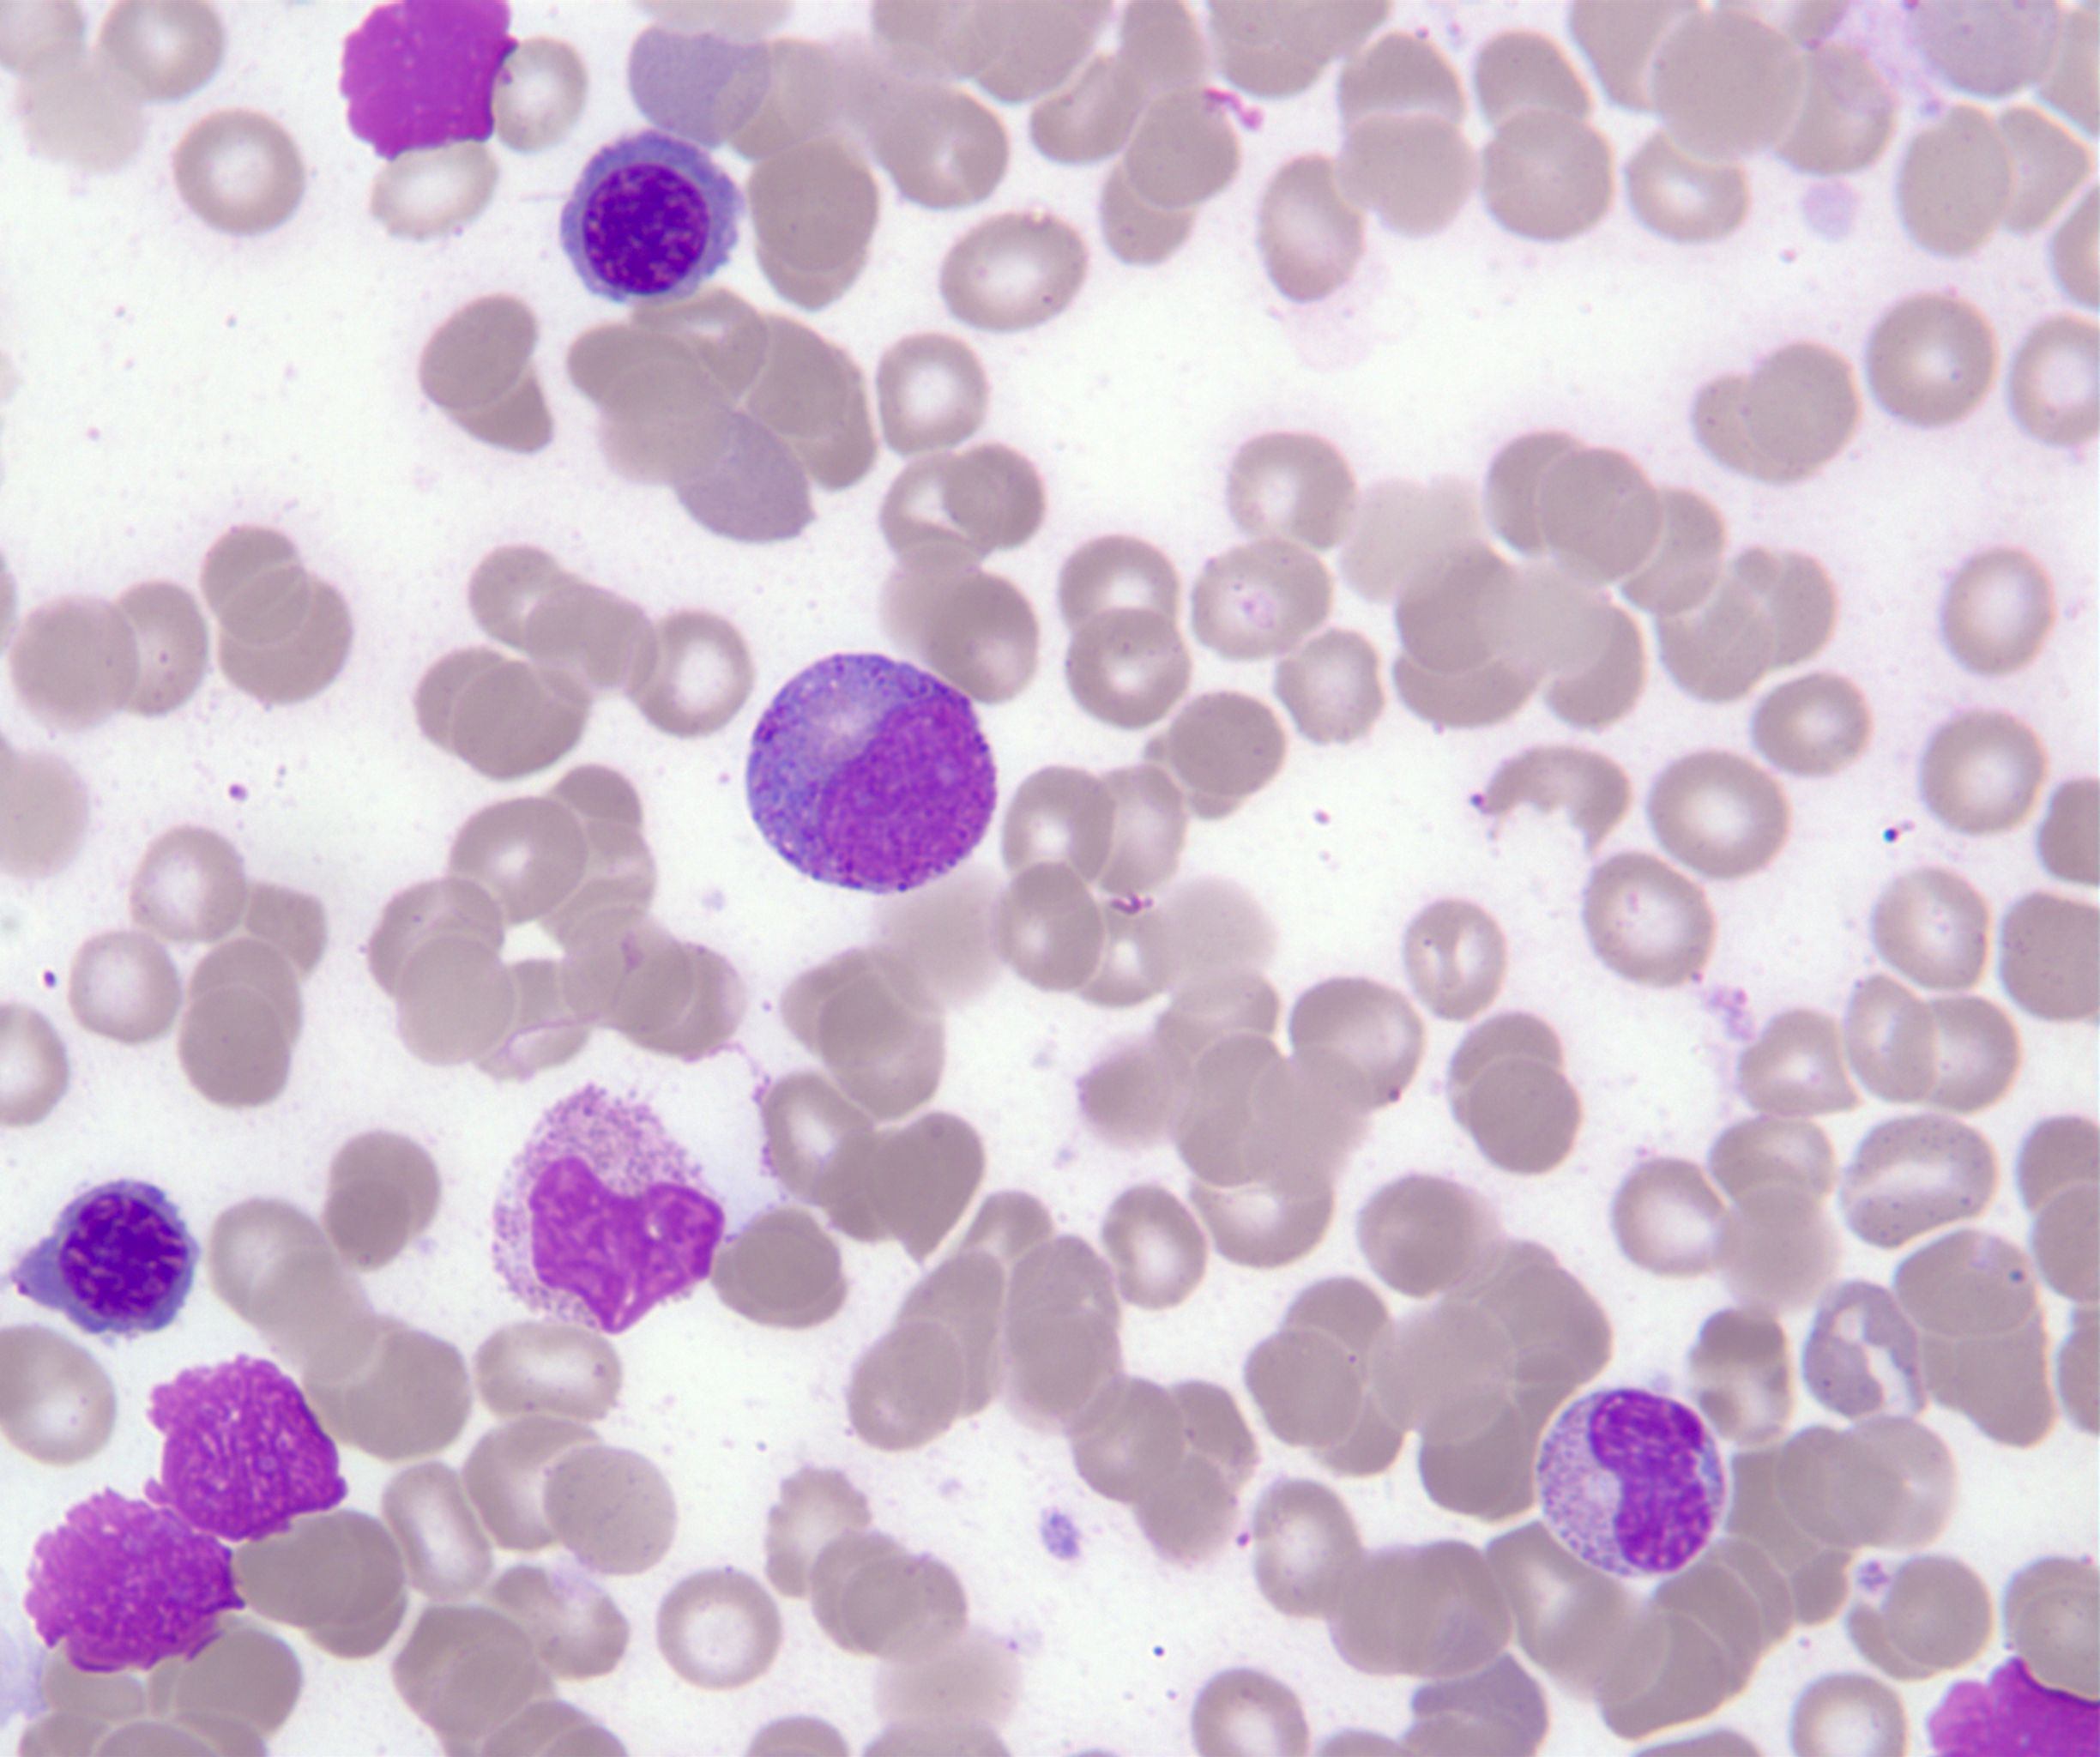23: (2, 1179, 197, 1342), (562, 131, 745, 304)
3: (747, 651, 996, 892)
4: (490, 1082, 722, 1335), (1537, 1389, 1728, 1579)
x: (23, 1487, 244, 1675), (145, 1356, 345, 1542), (338, 3, 515, 164)
